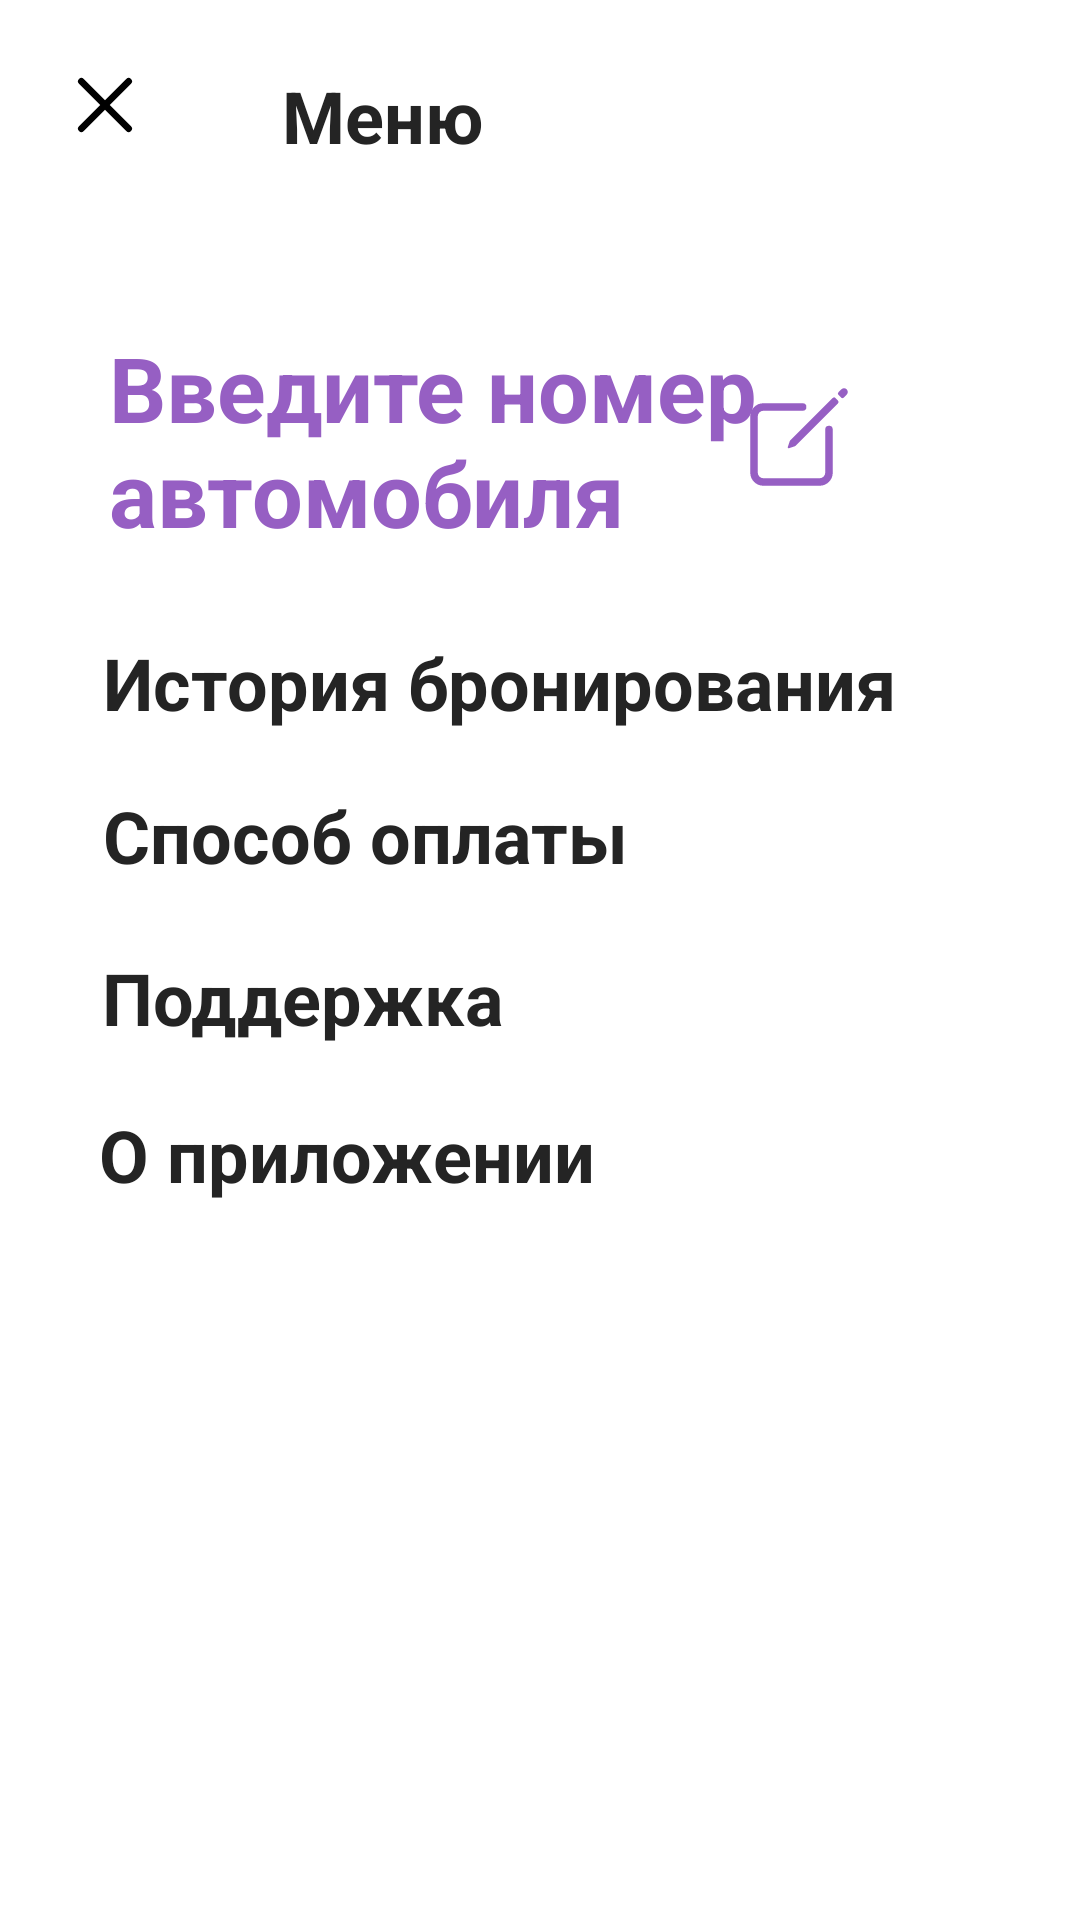

Icons on this 1080×1920 Android screen, each with the point to tap as (x=x, y=y):
close: (x=105, y=105)
edit: (x=779, y=430)
